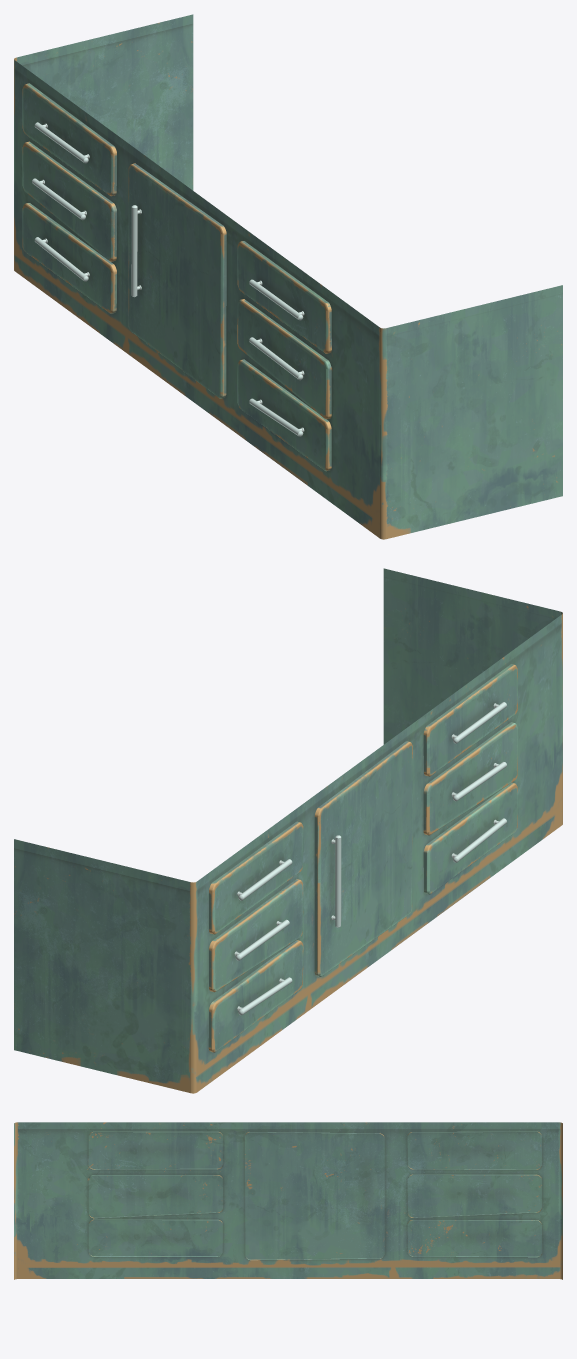
File: SM_Kitchen_Countertop_A.fbx
The picture shows the model from 3 angles, top to bottom: view 1: azimuth 30°, elevation 25°; view 2: azimuth 150°, elevation 25°; view 3: azimuth 270°, elevation 25°; orthographic projection. The views are drawn at different scales.
Parts seen in each view (by area): view 1: SM_Kitchen_Countertop_A_LOD0; view 2: SM_Kitchen_Countertop_A_LOD0; view 3: SM_Kitchen_Countertop_A_LOD0.
Part boxes in pixels (x1=…): SM_Kitchen_Countertop_A_LOD0: x1=14, y1=14, x2=562, y2=539; SM_Kitchen_Countertop_A_LOD0: x1=14, y1=568, x2=562, y2=1093; SM_Kitchen_Countertop_A_LOD0: x1=14, y1=1122, x2=562, y2=1279.
Bounding box in the file's own units: 107 × 354 × 112.
Materials: 1 (1 with a texture image).
